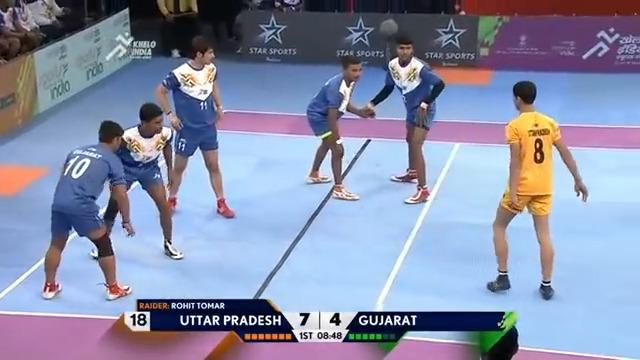Player: (41, 119, 135, 300), (88, 102, 183, 260), (154, 35, 235, 218), (364, 33, 445, 204), (304, 53, 375, 200)
Raider: (486, 79, 588, 300)
referee: (477, 311, 519, 359)
